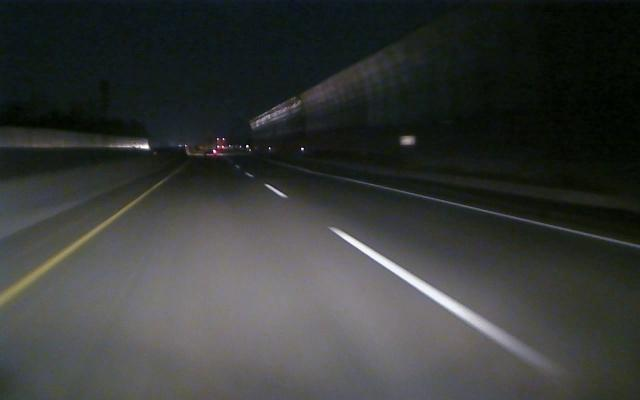lane: (264, 184, 569, 373), (346, 178, 640, 249), (3, 181, 163, 305)
